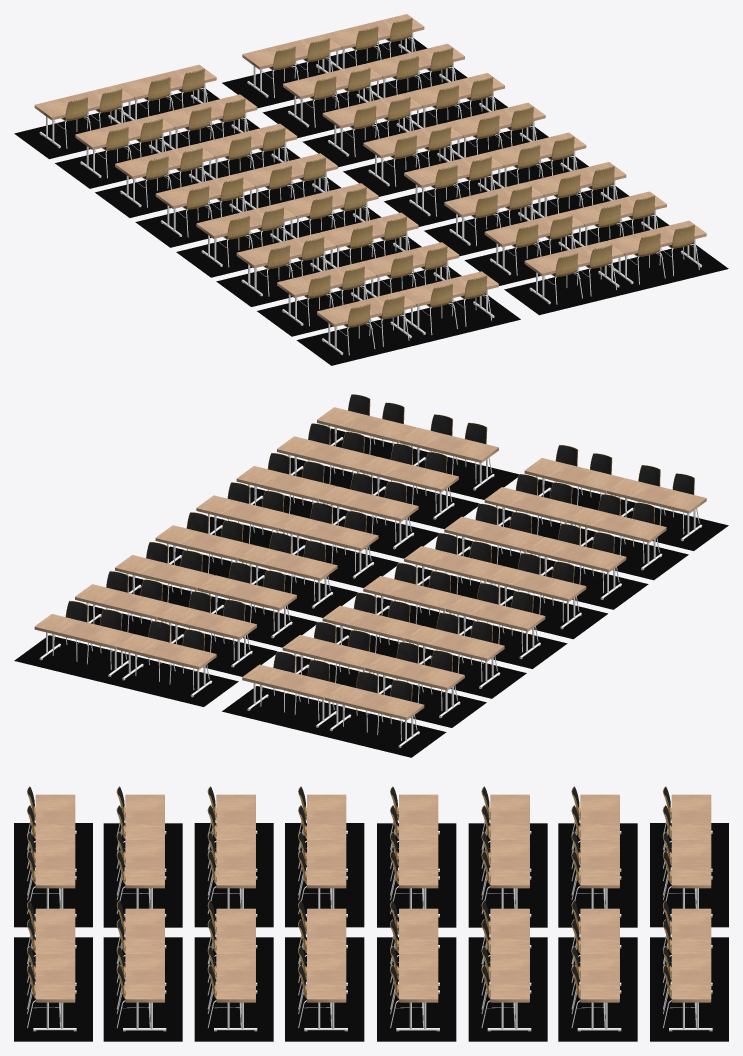
File: Matterhorn-2.fbx
3 views of the same model, one above another, from view 1: azimuth 30°, elevation 25°; view 2: azimuth 150°, elevation 25°; view 3: azimuth 270°, elevation 25° (orthographic). The views are drawn at different scales.
Parts seen in each view (by area): view 1: Desk_Set_Twin__28_.002, Desk_Set_Twin__31_.002, Desk_Set_Twin__30_.002, Desk_Set_Twin__29_.002, Desk_Set_Twin__12_.002, Desk_Set_Twin__8_.002, Desk_Set_Twin.004, Desk_Set_Twin__14_.002, Desk_Set_Twin__2_.002, Desk_Set_Twin__10_.002, Desk_Set_Twin__16_.002, Desk_Set_Twin__4_.002 (+20 smaller); view 2: Desk_Set_Twin__2_.002, Desk_Set_Twin.004, Desk_Set_Twin__1_.002, Desk_Set_Twin__3_.002, Desk_Set_Twin__16_.002, Desk_Set_Twin__12_.002, Desk_Set_Twin__24_.002, Desk_Set_Twin__18_.002, Desk_Set_Twin__4_.002, Desk_Set_Twin__20_.002, Desk_Set_Twin__28_.002, Desk_Set_Twin__14_.002 (+20 smaller); view 3: Desk_Set_Twin__11_.002, Desk_Set_Twin__15_.002, Desk_Set_Twin__19_.002, Desk_Set_Twin__7_.002, Desk_Set_Twin__23_.002, Desk_Set_Twin__27_.002, Desk_Set_Twin__3_.002, Desk_Set_Twin__31_.002, Desk_Set_Twin__13_.002, Desk_Set_Twin__5_.002, Desk_Set_Twin__17_.002, Desk_Set_Twin__9_.002 (+20 smaller).
Boxes of the visible parts, x1,y1,x2,y2 form: Desk_Set_Twin__28_.002: (296, 291, 438, 365); Desk_Set_Twin__31_.002: (587, 220, 728, 294); Desk_Set_Twin__30_.002: (504, 241, 642, 315); Desk_Set_Twin__29_.002: (399, 271, 520, 339); Desk_Set_Twin__12_.002: (135, 173, 256, 247); Desk_Set_Twin__8_.002: (95, 144, 215, 217); Desk_Set_Twin.004: (14, 85, 134, 159); Desk_Set_Twin__14_.002: (343, 123, 466, 196); Desk_Set_Twin__2_.002: (222, 34, 342, 108); Desk_Set_Twin__10_.002: (302, 93, 423, 167); Desk_Set_Twin__16_.002: (176, 203, 296, 277); Desk_Set_Twin__4_.002: (55, 114, 175, 188); Desk_Set_Twin__2_.002: (97, 621, 238, 706); Desk_Set_Twin.004: (304, 671, 446, 757); Desk_Set_Twin__1_.002: (222, 651, 363, 735); Desk_Set_Twin__3_.002: (14, 600, 155, 680); Desk_Set_Twin__16_.002: (486, 553, 607, 639); Desk_Set_Twin__12_.002: (446, 583, 567, 668); Desk_Set_Twin__24_.002: (567, 494, 688, 580); Desk_Set_Twin__18_.002: (279, 502, 399, 587); Desk_Set_Twin__4_.002: (365, 642, 486, 727); Desk_Set_Twin__20_.002: (527, 523, 648, 609); Desk_Set_Twin__28_.002: (607, 465, 728, 550); Desk_Set_Twin__14_.002: (238, 532, 357, 617); Desk_Set_Twin__11_.002: (468, 946, 547, 1041); Desk_Set_Twin__15_.002: (377, 946, 456, 1041); Desk_Set_Twin__19_.002: (285, 946, 364, 1041); Desk_Set_Twin__7_.002: (558, 946, 637, 1041); Desk_Set_Twin__23_.002: (194, 946, 273, 1041); Desk_Set_Twin__27_.002: (103, 946, 182, 1041); Desk_Set_Twin__3_.002: (650, 946, 728, 1041); Desk_Set_Twin__31_.002: (14, 946, 92, 1041); Desk_Set_Twin__13_.002: (377, 831, 456, 927); Desk_Set_Twin__5_.002: (558, 832, 637, 927); Desk_Set_Twin__17_.002: (285, 832, 364, 927); Desk_Set_Twin__9_.002: (468, 832, 547, 927).
Bounding box in the file's own units: 8.67 × 0.9619 × 11.99.
